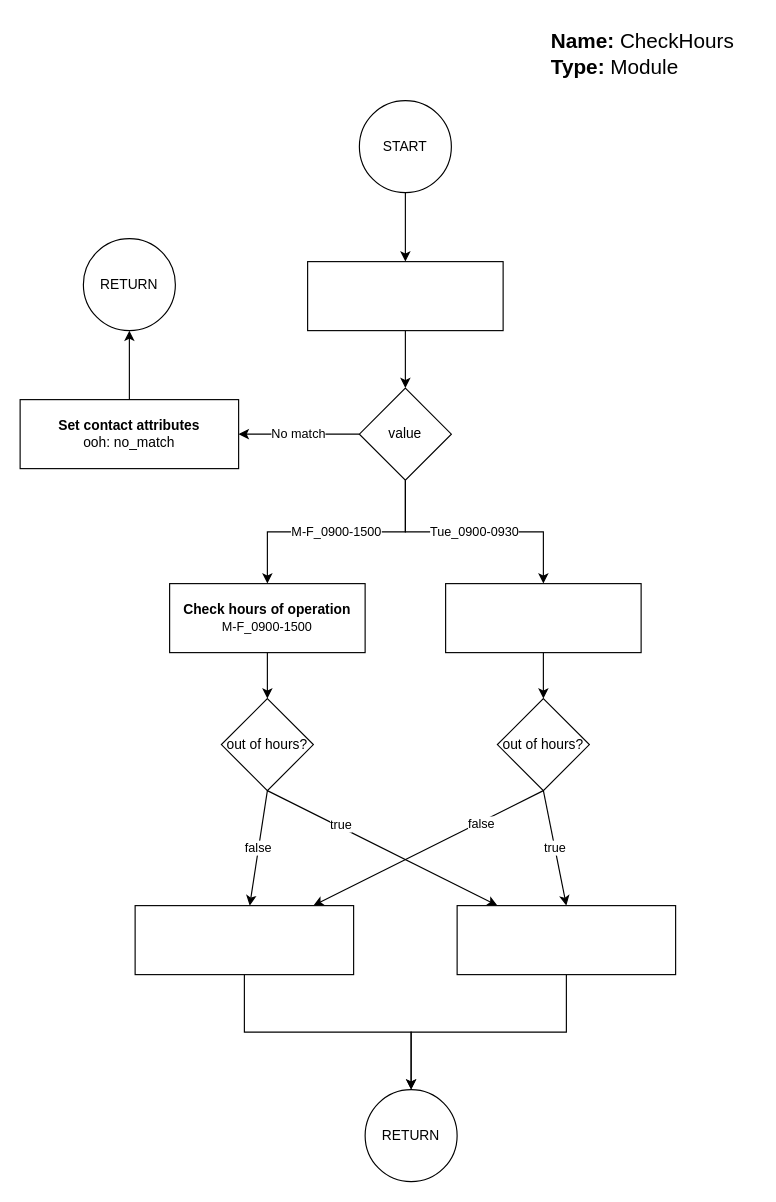
This 776x1202 diagram has some shape labels left out. Here are the shapes that lost their labels. From the top down, the box of each, then its label:
(306, 260, 503, 331): Check contact attributes User defined(hoop-name)
(444, 582, 641, 653): Check hours of operation Tue_0900-0930
(134, 904, 354, 975): Set contact attributes ooh: false
(456, 904, 676, 975): Set contact attributes ooh: true
